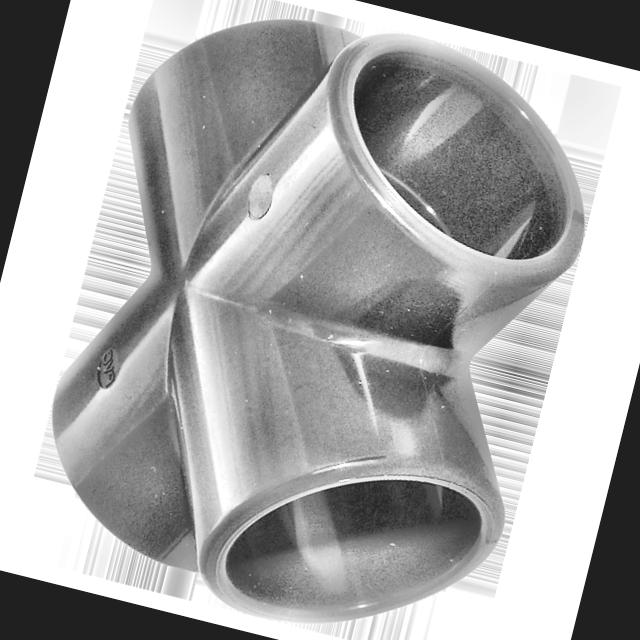EQUALCROSS: (51, 17, 588, 625)
